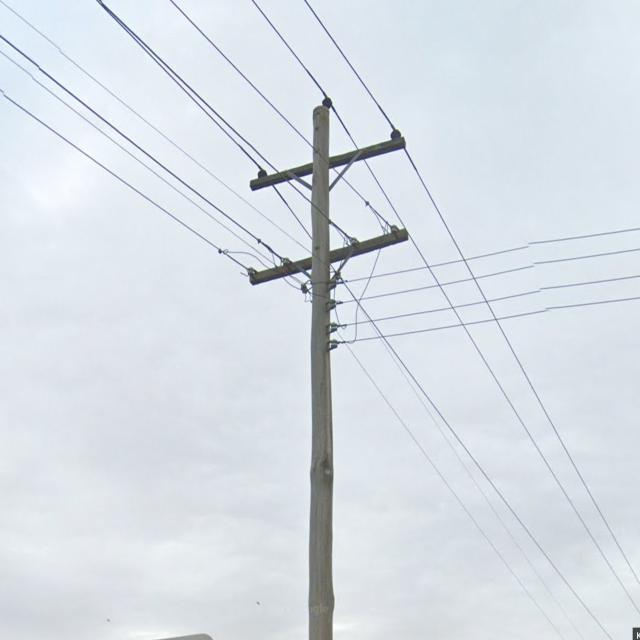HV-transmission: (250, 96, 406, 192)
crossarm: (248, 226, 407, 285), (250, 136, 406, 192)
timber-pole: (309, 107, 332, 640)
